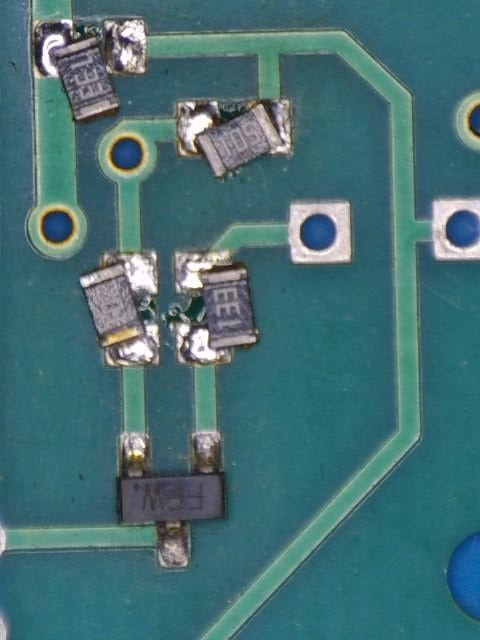pcb_defect: (31, 18, 144, 122), (174, 251, 257, 367), (78, 251, 160, 367), (175, 99, 291, 178)
